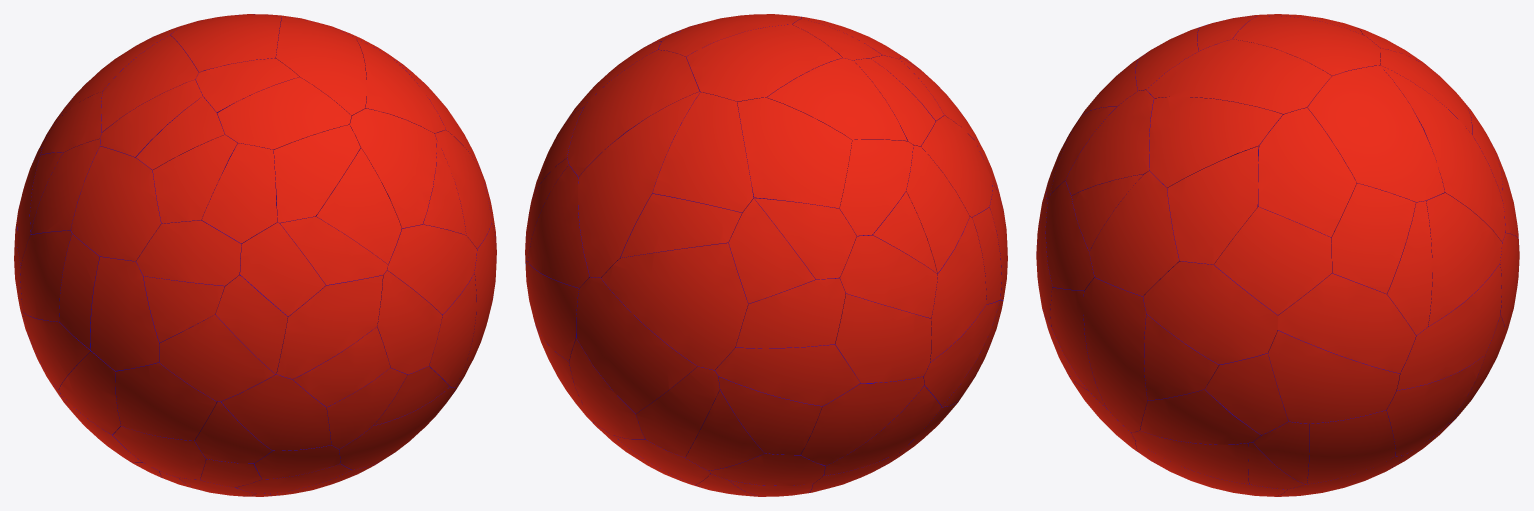
Rendered from SphereExplosion.glb.
3 renders of one model, left to right at view 1: azimuth 30°, elevation 25°; view 2: azimuth 150°, elevation 25°; view 3: azimuth 270°, elevation 25°, orthographic.
Parts seen in each view (by area): view 1: Cube_cell.099, Cube_cell.059, Cube_cell.098, Cube_cell.004, Cube_cell.045, Cube_cell.071, Cube_cell.055, Cube_cell.073, Cube_cell.064, Cube_cell.035, Cube_cell.067, Cube_cell.090 (+39 smaller); view 2: Cube_cell.082, Cube_cell.024, Cube_cell.072, Cube_cell.050, Cube_cell.077, Cube_cell.086, Cube_cell.001, Cube_cell.080, Cube_cell.057, Cube_cell.003, Cube_cell.061, Cube_cell.066 (+36 smaller); view 3: Cube_cell.001, Cube_cell.015, Cube_cell.084, Cube_cell.055, Cube_cell.042, Cube_cell.063, Cube_cell.008, Cube_cell.040, Cube_cell.085, Cube_cell.093, Cube_cell.005, Cube_cell.022 (+30 smaller).
Part boxes in pixels (x1,y1,x2,y2): Cube_cell.099: (71, 146, 161, 261); Cube_cell.059: (276, 275, 382, 379); Cube_cell.098: (349, 108, 436, 228); Cube_cell.004: (90, 256, 159, 370); Cube_cell.045: (217, 77, 351, 149); Cube_cell.071: (159, 314, 275, 401); Cube_cell.055: (276, 17, 366, 115); Cube_cell.073: (115, 362, 216, 440); Cube_cell.064: (273, 124, 360, 223); Cube_cell.035: (221, 374, 331, 450); Cube_cell.067: (387, 224, 476, 314); Cube_cell.090: (201, 143, 277, 243); Cube_cell.082: (601, 243, 748, 369); Cube_cell.024: (578, 91, 700, 277); Cube_cell.072: (737, 97, 851, 208); Cube_cell.050: (576, 277, 697, 413); Cube_cell.077: (652, 92, 753, 212); Cube_cell.086: (686, 24, 842, 109); Cube_cell.001: (567, 50, 699, 176); Cube_cell.080: (835, 293, 931, 382); Cube_cell.057: (767, 58, 907, 141); Cube_cell.003: (715, 344, 860, 405); Cube_cell.061: (735, 278, 845, 348); Cube_cell.066: (800, 376, 924, 465); Cube_cell.001: (1307, 65, 1444, 202); Cube_cell.015: (1143, 261, 1277, 364); Cube_cell.084: (1258, 108, 1356, 237); Cube_cell.055: (1146, 39, 1331, 114); Cube_cell.042: (1278, 273, 1415, 373); Cube_cell.063: (1149, 97, 1282, 187); Cube_cell.008: (1268, 330, 1399, 423); Cube_cell.040: (1214, 207, 1331, 314); Cube_cell.085: (1083, 277, 1147, 432); Cube_cell.093: (1167, 146, 1258, 264); Cube_cell.005: (1089, 171, 1180, 296); Cube_cell.022: (1331, 183, 1415, 293).
Size of the model in its own units: 3.46 by 3.46 by 3.46.
